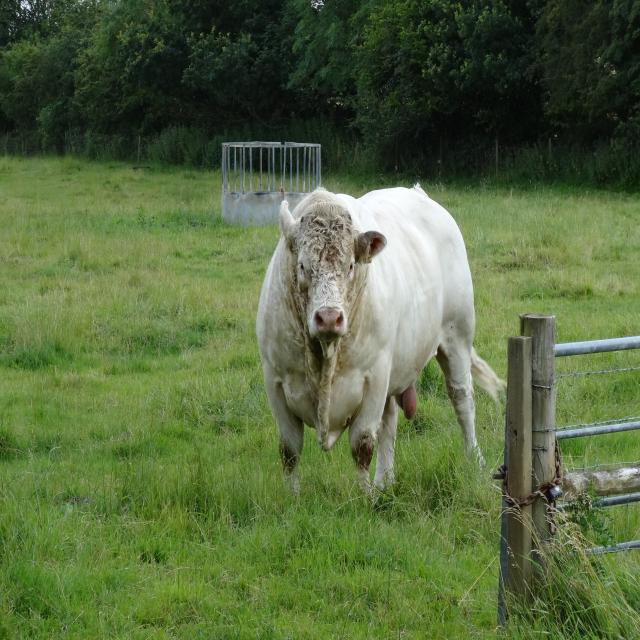cow: (256, 187, 504, 493)
